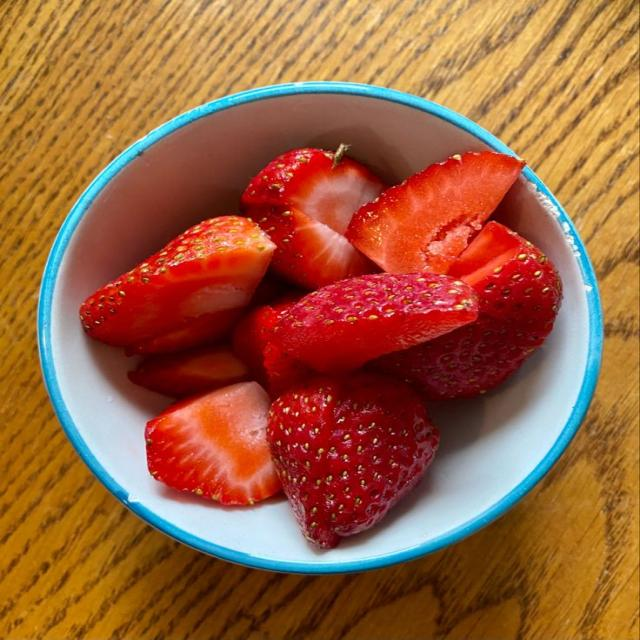strawberry sliced: (373, 222, 561, 399), (267, 374, 439, 547), (80, 216, 274, 347), (347, 152, 524, 273), (240, 147, 385, 289), (272, 273, 477, 373), (146, 383, 279, 504), (241, 145, 385, 234), (247, 207, 376, 289), (128, 345, 249, 398), (233, 293, 299, 387), (126, 309, 242, 355), (264, 342, 316, 398)
